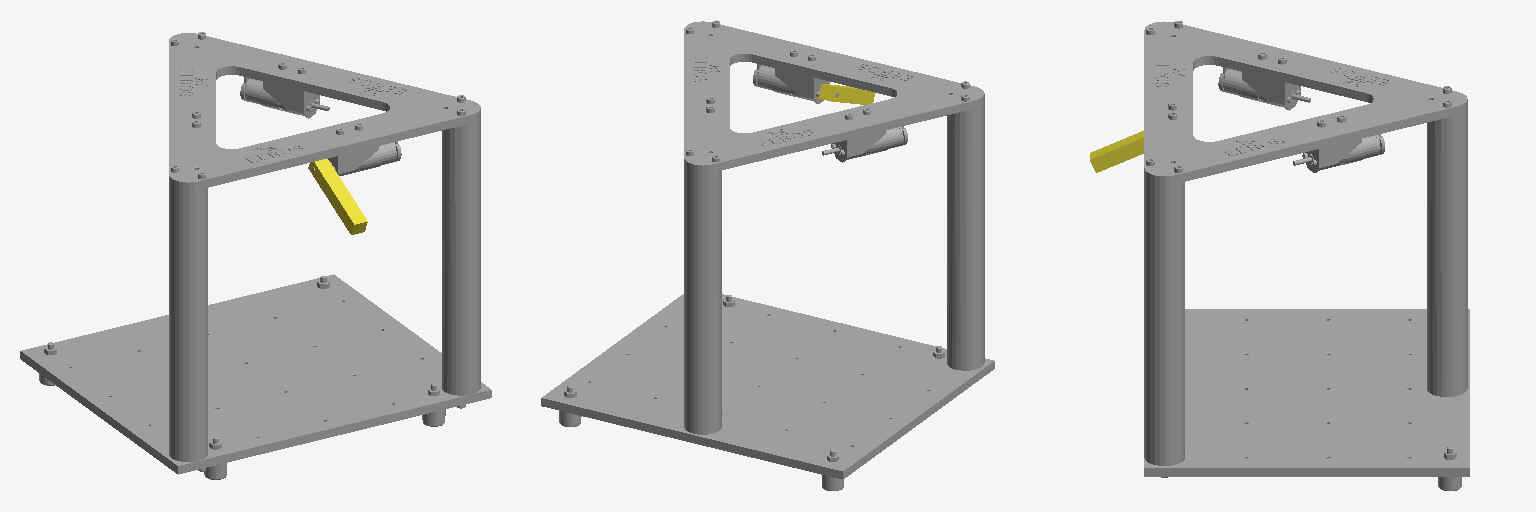
robot.urdf — eeduro_delta:
<?xml version="1.0"?>
<robot name="eeduro_delta">


<link name="world"/>

<joint name="fix_to_world" type="fixed">
	<parent link="world"/>
	<child link="base_link"/>
<!--	<origin/> -->
</joint>

<link name="base_link">
	<visual>
		<geometry>
			<mesh filename="package://eeduro_delta_description/meshes/delta_base.dae"/>
<!--			<box size="0.2 0.2 0.2"/> -->
		</geometry>
	</visual>
	<collision>
		<geometry>
			<mesh filename="package://eeduro_delta_description/meshes/delta_base_collision.dae"/>
<!--			<box size="0.2 0.2 0.2"/> -->
		</geometry>
	</collision>
	<inertial>
		<mass value="1.0"/>
		<inertia ixx="1.0" ixy="0" ixz="0" iyy="1.0" iyz="0" izz="1.0"/>
	</inertial>
</link>

<joint name="joint_motor_arm1" type="continuous">
	<parent link="base_link"/>
	<child link="link_motor_arm1"/>
	<origin xyz="0.04 -0.052735026919 0.195" rpy="-1.570796327 0 3.141592654"/>
	<axis xyz="1 0 0"/>
</joint>

<link name="link_motor_arm1">
	<visual>
    <origin xyz="0 0 0" rpy="0 1.570796327 0"/>
    <geometry>
      <cylinder radius="0.006" length="0.018"/>
    </geometry>
  </visual>
  <inertial>
    <origin xyz="0 0 0" rpy="0 0 0"/>
    <mass value="0.01"/>
    <inertia ixx="6.5e-8" ixy="0" ixz="0" iyy="8.5e-8" iyz="0" izz="8.5e-8"/>
  </inertial>
</link>

<joint name="joint0_arm1" type="continuous">
	<parent link="base_link"/>
	<child link="link1_arm1"/>
	<origin xyz="0 -0.052735026919 0.195" rpy="-2 0 3.141592654"/>
	<axis xyz="1 0 0"/>
	<!-- callculation X: 0  Y: -70.23..+17.5  Z: 210-15 -->
</joint>

<link name="link1_arm1">
	<visual>
		<origin xyz="0 0 0.024" rpy="0 0 0"/>
		<geometry>
			<box size="0.01 0.01  0.06"/>
		</geometry>
	</visual>
	<inertial>
		<origin xyz="0 0 0.03" rpy="0 0 0"/>
		<mass value="1"/>
		<inertia ixx="3.6379e-6" ixy="0" ixz="0" iyy="3.533e-6" iyz="0" izz="1.749e-7"/>
	</inertial>
</link>

<gazebo>
	<joint name="gear_arm1" type="gearbox">
		<parent>link_motor_arm1</parent>
		<child>link1_arm1</child>
		<gearbox_reference_body>base_link</gearbox_reference_body>
		<gearbox_ratio>-0.013176411</gearbox_ratio>
		<axis>
			<xyz>1 0 0</xyz>
		</axis>
    <axis2>
      <xyz>1 0 0</xyz>
    </axis2>
	</joint>
</gazebo>
<!--
<joint name="joint1_arm1" type="continuous">
	<parent link="link1_arm1"/>
	<child link="link2_arm1"/>
	<origin xyz="0 0 0.05" rpy="0 0 0"/>
	<axis xyz="1 0 0"/>
</joint>

<link name="link2_arm1">
	<visual>
		<origin xyz="0 0 0" rpy="0 0 0"/>
		<geometry>
      <box size="0.042 0.006 0.006"/>
    </geometry>
	</visual>
  <inertial>
    <origin xyz="0 0 0" rpy="0 0 0"/>
    <mass value="1.0"/>
    <inertia ixx="1.0" ixy="0" ixz="0" iyy="1.0" iyz="0" izz="1.0"/>
  </inertial>
</link>

<joint name="joint2_arm1" type="continuous">
	<parent link="link2_arm1"/>
	<child link="link3_arm1"/>
	<origin xyz="0 0 0" rpy="0 0 -1.570796327"/>
	<axis xyz="1 0 0"/>
</joint>
	
<link name="link3_arm1">
  <visual>
		<origin xyz="0 0 0.05" rpy="0 0 0"/>
    <geometry>
      <box size="0.005 0.005 0.1"/>
    </geometry>
  </visual>
  <inertial>
    <origin xyz="0 0 0.05" rpy="0 0 0"/>
    <mass value="1.0"/>
    <inertia ixx="1.0" ixy="0" ixz="0" iyy="1.0" iyz="0" izz="1.0"/>
  </inertial>
</link>

<joint name="joint3_arm1" type="continuous">
  <parent link="link3_arm1"/>
  <child link="link4_arm1"/>
  <origin xyz="0 0 0.1" rpy="0 0 0"/>
  <axis xyz="1 0 0"/>
</joint>

<link name="link4_arm1">
  <visual>
    <origin xyz="0 0 0" rpy="0 0 1.570796327"/>
    <geometry>
      <box size="0.042 0.006 0.006"/>
    </geometry>
  </visual>
  <inertial>
    <origin xyz="0 0 0" rpy="0 0 0"/>
    <mass value="1.0"/>
    <inertia ixx="1.0" ixy="0" ixz="0" iyy="1.0" iyz="0" izz="1.0"/>
  </inertial>
</link>
-->
<gazebo>
	
</gazebo>

</robot>

--- Facts derived from the render (not from the file) ---
3 views of the same robot in one strip: view 1: azimuth 30°, elevation 25°; view 2: azimuth 150°, elevation 25°; view 3: azimuth 270°, elevation 25° (orthographic).
Model eeduro_delta with 4 links and 3 joints (2 continuous, 1 fixed), rooted at world, posed all joints at 0.
Links seen in each view (by area): view 1: base_link, link1_arm1; view 2: base_link, link1_arm1; view 3: base_link, link1_arm1.
Link boxes in pixels (x1,y1,x2,y2): base_link: (20, 32, 491, 479); link1_arm1: (308, 159, 367, 234); base_link: (541, 20, 994, 490); link1_arm1: (818, 84, 874, 104); base_link: (1144, 21, 1469, 490); link1_arm1: (1090, 131, 1143, 172).
Bounding box of the posed robot: 0.23 × 0.2337 × 0.219 m (x, y, z).
Meshes: 1 distinct files referenced, 1 mesh visuals loaded (1 Collada DAE).